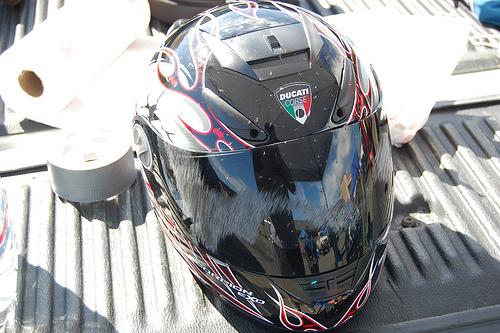helmet: (142, 6, 408, 288)
